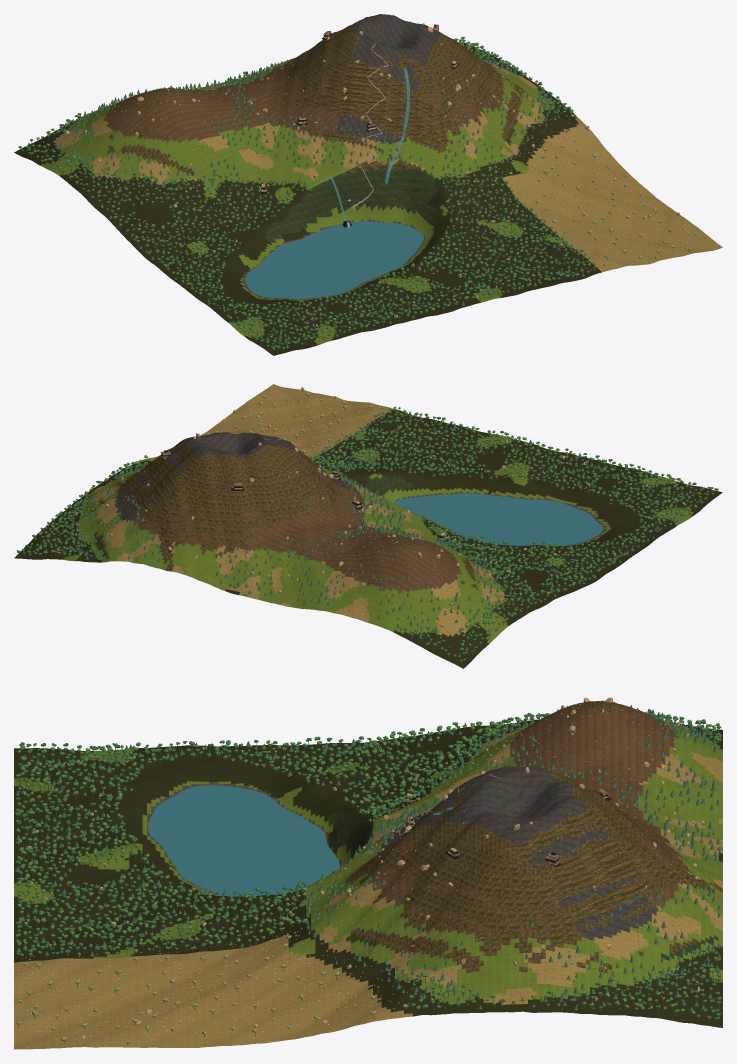
3 views of the same model, one above another, from view 1: azimuth 30°, elevation 25°; view 2: azimuth 150°, elevation 25°; view 3: azimuth 270°, elevation 25° (orthographic). The views are drawn at different scales.
Parts seen in each view (by area): view 1: terrain_mountain, lake_water_surface, rocks_boulders; view 2: terrain_mountain, lake_water_surface, rocks_boulders; view 3: terrain_mountain, lake_water_surface, rocks_boulders.
Part boxes in pixels (left/top/right/bottom): terrain_mountain: left=14, top=14, right=722, bottom=355; lake_water_surface: left=245, top=221, right=423, bottom=299; rocks_boulders: left=66, top=23, right=685, bottom=337; terrain_mountain: left=14, top=384, right=722, bottom=668; lake_water_surface: left=393, top=493, right=603, bottom=546; rocks_boulders: left=56, top=402, right=684, bottom=626; terrain_mountain: left=14, top=701, right=722, bottom=1049; lake_water_surface: left=148, top=785, right=340, bottom=896; rocks_boulders: left=27, top=697, right=704, bottom=1039.
Bounding box in the file's own units: 1000 × 274 × 1000.
Materials: 34 (19 with a texture image).
